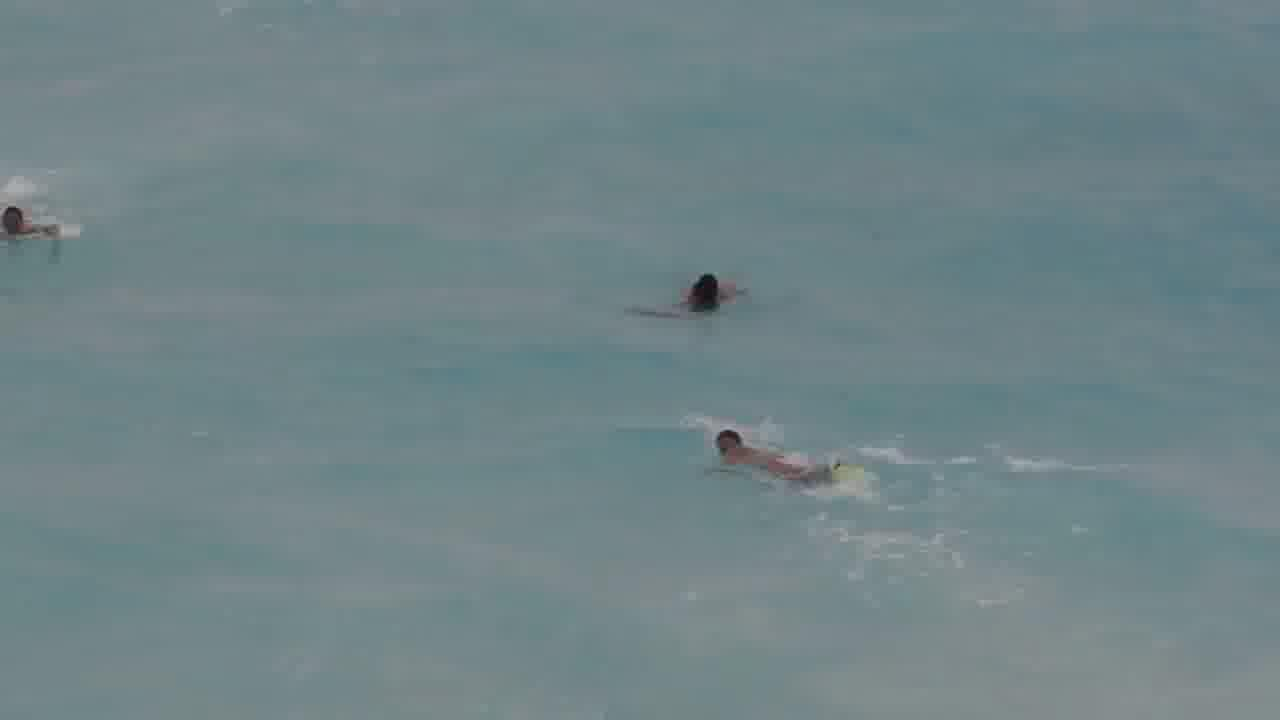human: (697, 409, 839, 488), (645, 265, 743, 317), (0, 192, 68, 246)
